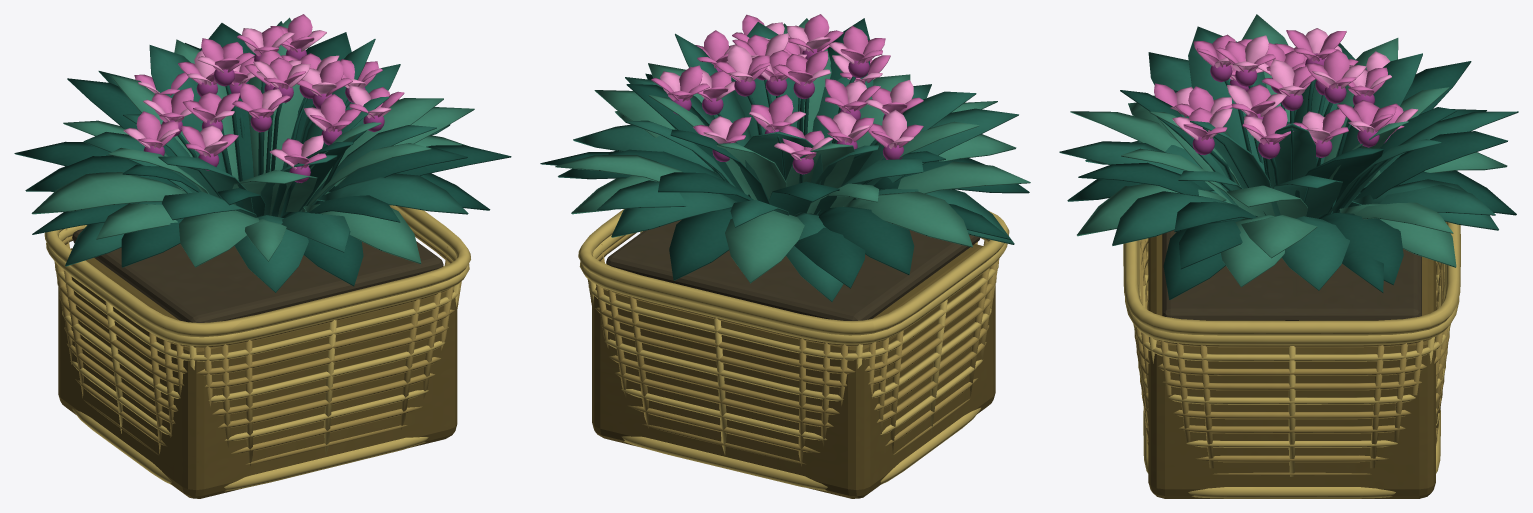
The model's file is 02_Flower_Basket.fbx.
3 renders of one model, left to right at view 1: azimuth 30°, elevation 25°; view 2: azimuth 150°, elevation 25°; view 3: azimuth 270°, elevation 25°, orthographic. The views are drawn at different scales.
Parts seen in each view (by area): view 1: 02_Flower_Basket_Mesh; view 2: 02_Flower_Basket_Mesh; view 3: 02_Flower_Basket_Mesh.
Part boxes in pixels (left/top/right/bottom): 02_Flower_Basket_Mesh: left=14, top=14, right=511, bottom=498; 02_Flower_Basket_Mesh: left=540, top=14, right=1030, bottom=498; 02_Flower_Basket_Mesh: left=1059, top=14, right=1518, bottom=498.
Bounding box in the file's own units: 27.57 × 23.1 × 24.59.
Materials: 1 (1 with a texture image).
